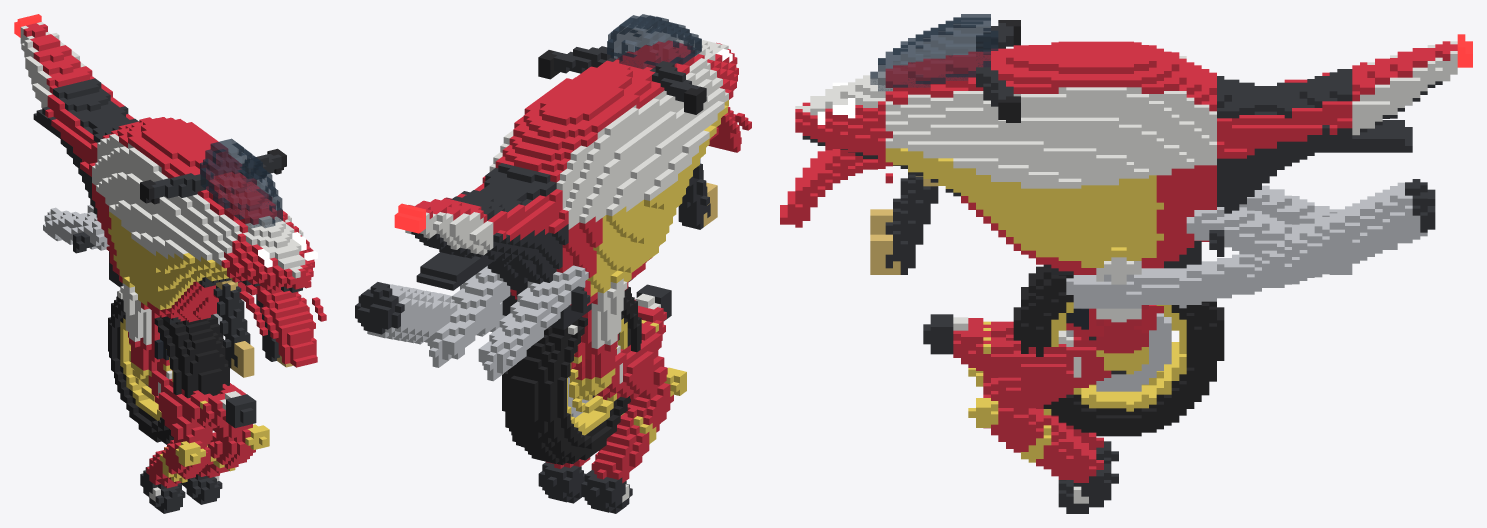
Rendered from bike_voxel_hi.glb.
3 renders of one model, left to right at view 1: azimuth 30°, elevation 25°; view 2: azimuth 150°, elevation 25°; view 3: azimuth 270°, elevation 25°, orthographic. The views are drawn at different scales.
Visible parts, largest first — view 1: body, fork, wheelRear, bubble, legR, frame, legL, torso, wheelFront, armR, armL, helmet (+1 smaller); view 2: body, frame, wheelRear, legR, bubble, torso, wheelFront, fork, legL, armR, armL, tail; view 3: body, frame, wheelRear, legL, fork, bubble, armL, torso, wheelFront, helmet, legR.
Part boxes in pixels (x1,y1,x2,y2): body: [20, 22, 314, 322]; fork: [213, 280, 326, 377]; wheelRear: [108, 290, 229, 444]; bubble: [200, 138, 282, 228]; legR: [140, 365, 212, 513]; frame: [33, 109, 286, 324]; legL: [181, 423, 269, 504]; torso: [118, 276, 159, 387]; wheelFront: [120, 317, 224, 430]; armR: [158, 379, 231, 428]; armL: [217, 383, 256, 428]; helmet: [140, 333, 169, 368]; body: [405, 39, 738, 305]; frame: [355, 46, 706, 381]; wheelRear: [502, 286, 641, 465]; legR: [581, 342, 686, 513]; bubble: [607, 14, 701, 68]; torso: [568, 270, 627, 400]; wheelFront: [508, 326, 617, 462]; fork: [678, 106, 751, 229]; legL: [538, 457, 590, 503]; armR: [619, 306, 666, 377]; armL: [634, 284, 671, 320]; tail: [394, 203, 425, 233]; body: [795, 41, 1457, 274]; frame: [976, 20, 1435, 308]; wheelRear: [1013, 273, 1224, 436]; legL: [968, 330, 1118, 513]; fork: [780, 149, 938, 274]; bubble: [870, 14, 998, 91]; armL: [923, 314, 1081, 380]; torso: [1096, 247, 1148, 374]; wheelFront: [1013, 266, 1224, 436]; helmet: [1066, 305, 1163, 340]; legR: [968, 368, 1118, 480].
Size of the model in its own units: 0.624 by 1.68 by 2.21.
